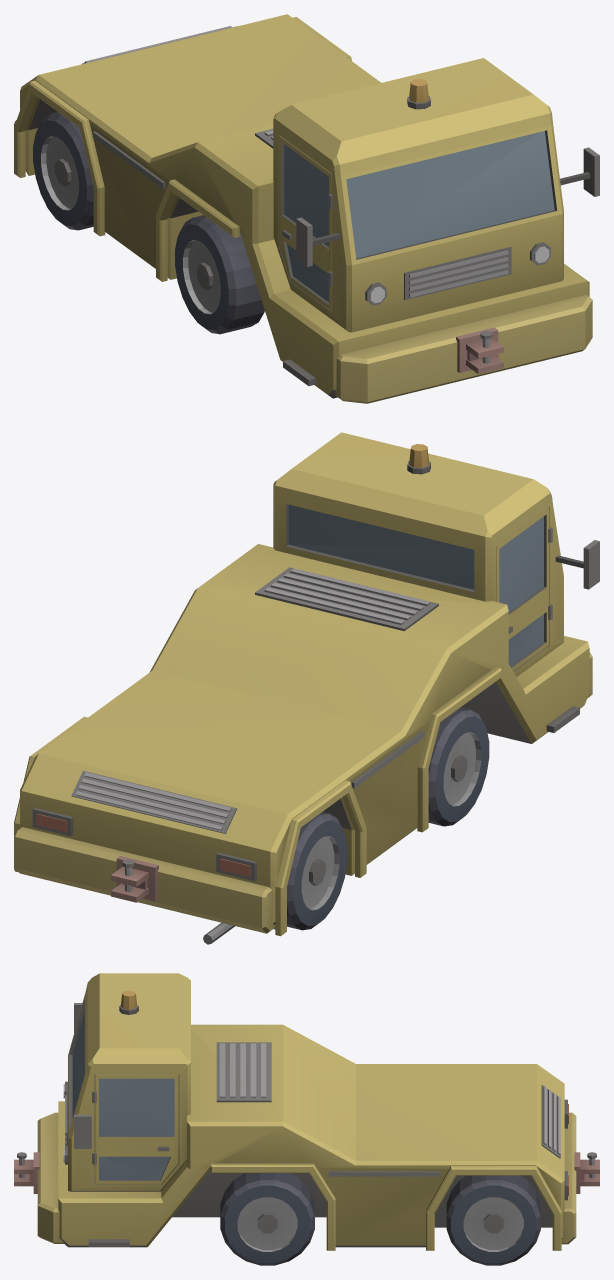
File: pushback.glb
3 views of the same model, one above another, from view 1: azimuth 30°, elevation 25°; view 2: azimuth 150°, elevation 25°; view 3: azimuth 270°, elevation 25° (orthographic). The views are drawn at different scales.
Parts seen in each view (by area): view 1: pushback; view 2: pushback; view 3: pushback.
Part boxes in pixels (<box>): pushback: <box>14,14,599,403</box>; pushback: <box>14,432,599,944</box>; pushback: <box>14,973,599,1265</box>.
Bounding box in the file's own units: 2.74 × 2.51 × 5.96.
